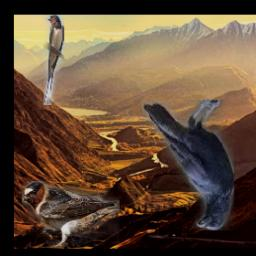Crow: (143, 101, 235, 231)
Swallow: (23, 181, 121, 247), (44, 15, 65, 105)
